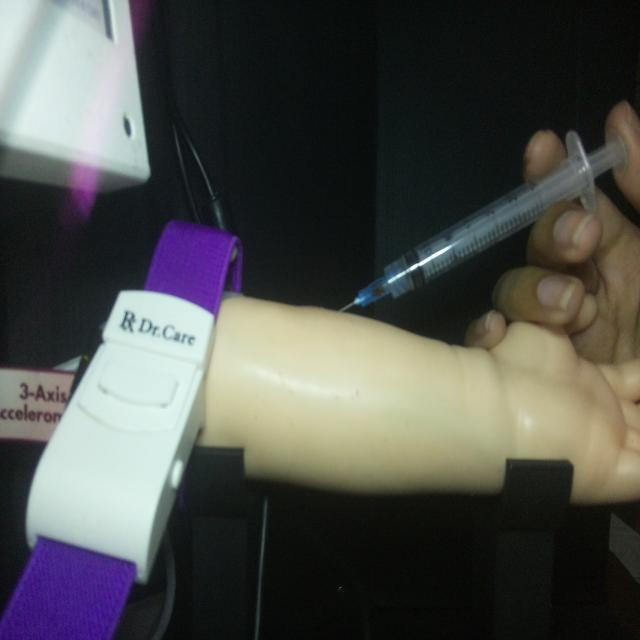22 degrees: (337, 123, 628, 315)
